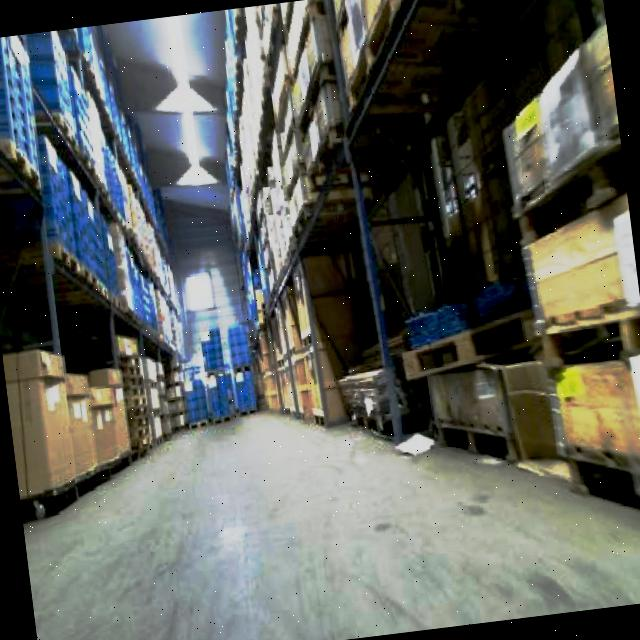ground: (13, 358, 640, 640)
pallet: (205, 0, 640, 640), (0, 19, 205, 527), (484, 0, 640, 549), (397, 283, 640, 553), (0, 34, 86, 519), (2, 325, 198, 521), (397, 302, 563, 476), (398, 304, 544, 381)
